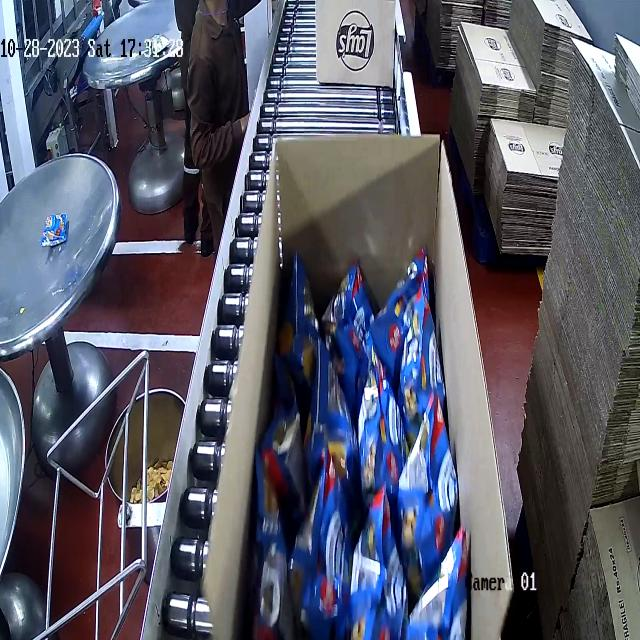PAPRIKA: (277, 250, 468, 640)
